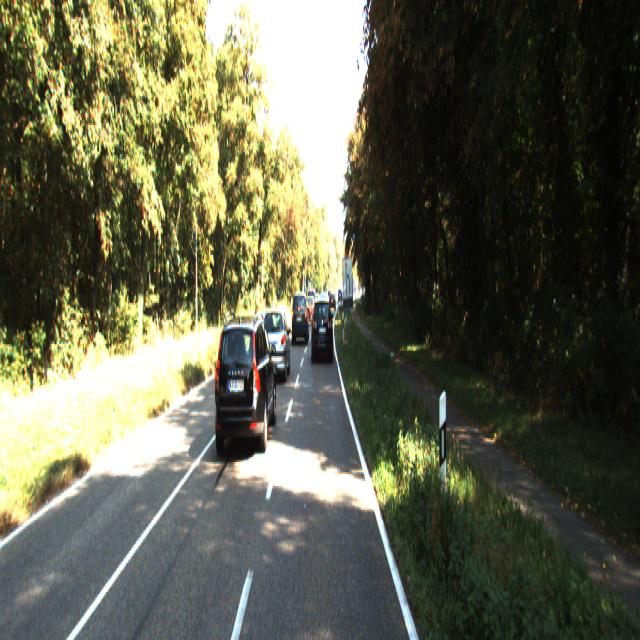Car: (211, 309, 277, 461), (260, 303, 290, 381), (310, 293, 332, 359), (291, 287, 308, 339)
DontCare: (336, 279, 344, 310)
